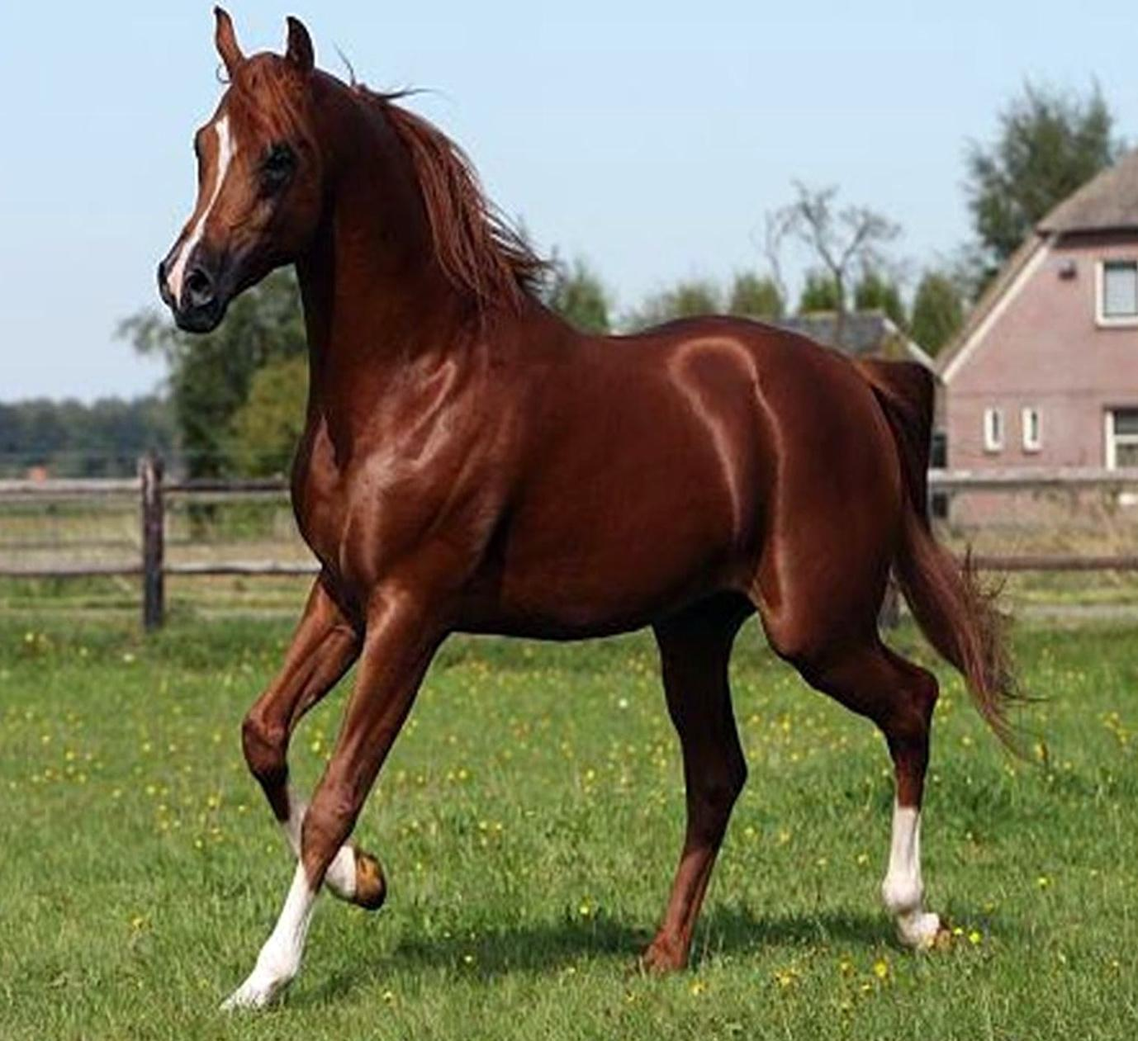horse: (138, 0, 1072, 1041)
